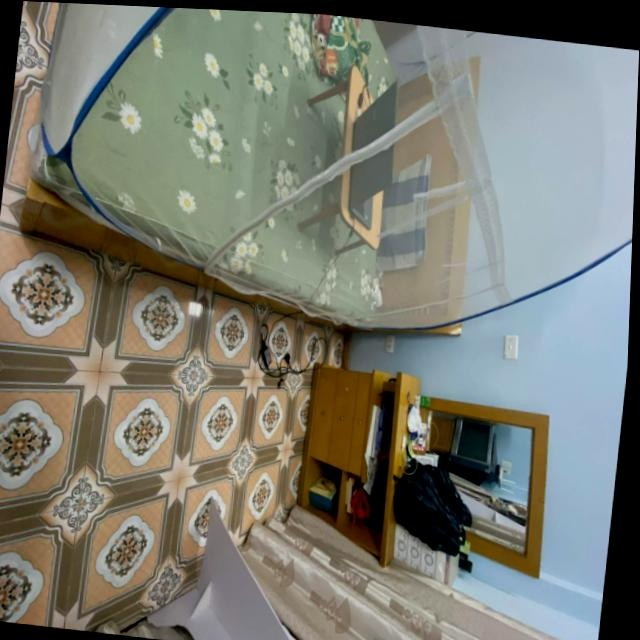outlet: (384, 334, 394, 354)
